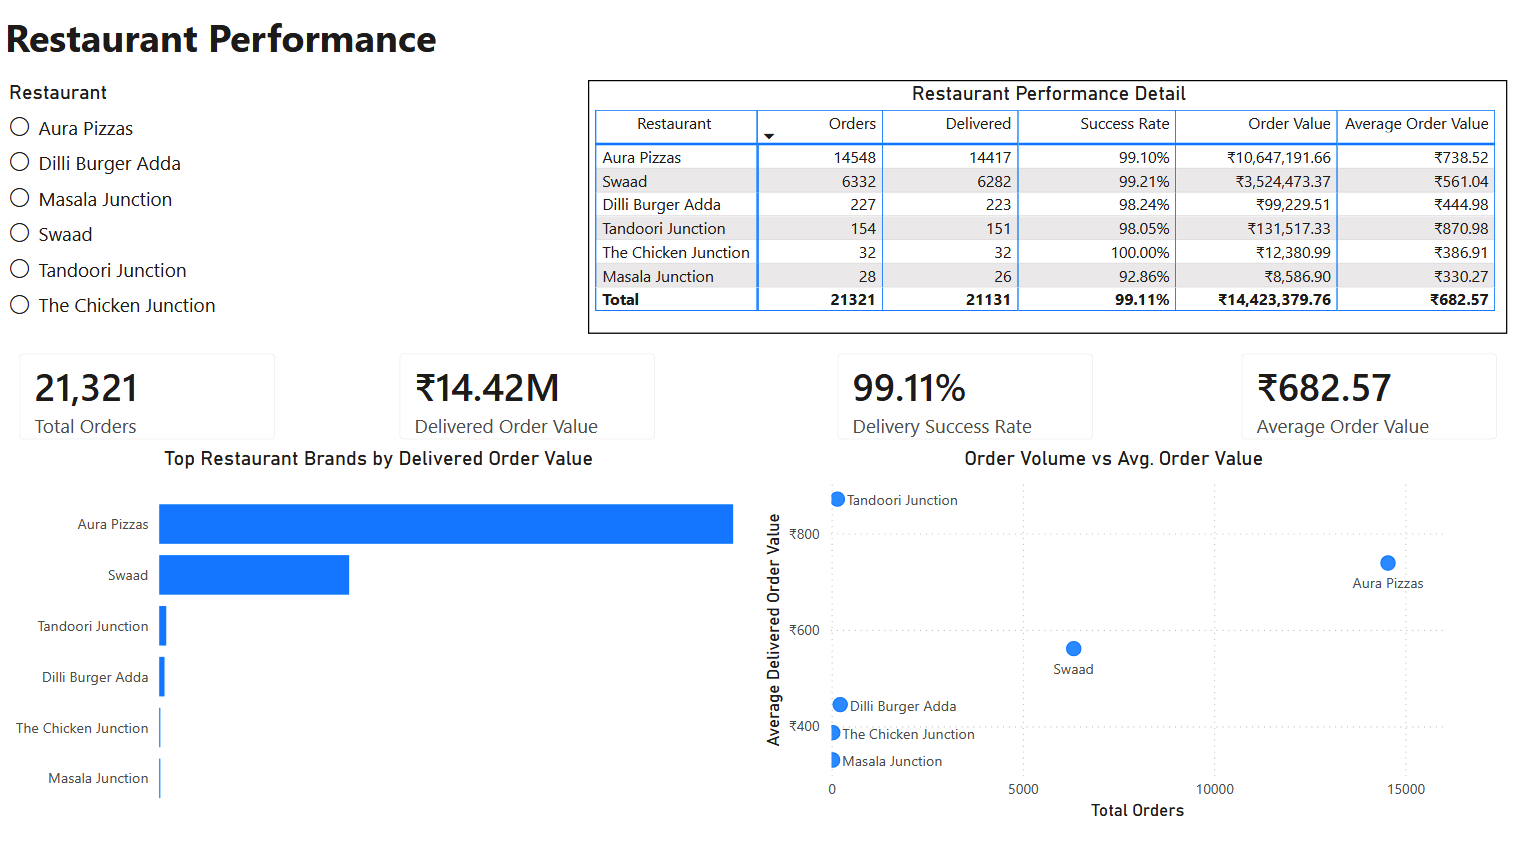

The dashboard page shown, as its layout file describes it:
{"tool":"powerbi","page":{"name":"Restaurant Performance","canvas":[1280,720],"ordinal":1},"visuals":[{"type":"listSlicer","fields":{"Values":["public vw_restaurant_performance.restaurant_name"]},"box":[3.8,71.2,492.5,213.8],"z":0},{"type":"cardVisual","fields":{"Data":["public vw_restaurant_performance.Restaurant Total Orders"]},"box":[0,285,250,107.5],"z":1000},{"type":"cardVisual","fields":{"Data":["public vw_restaurant_performance.Restaurant Delivered Order Value"]},"box":[320,285,250,107.5],"z":2000},{"type":"cardVisual","fields":{"Data":["public vw_restaurant_performance.Restaurant Delivery Success Rate"]},"box":[690,285,250,107.5],"z":3000},{"type":"cardVisual","fields":{"Data":["public vw_restaurant_performance.Restaurant Average Delivered Order Value"]},"box":[1030,285,250,107.5],"z":4000},{"type":"textbox","box":[0,8.8,608.8,62.5],"z":5000},{"type":"clusteredBarChart","title":"Top Restaurant Brands by Delivered Order Value","fields":{"Category":["public vw_restaurant_performance.restaurant_name"],"Y":["public vw_restaurant_performance.Restaurant Delivered Order Value"]},"box":[0,380,640,320],"z":6000},{"type":"scatterChart","title":"Order Volume vs Avg. Order Value","fields":{"Category":["public vw_restaurant_performance.restaurant_name"],"X":["Sum(public vw_restaurant_performance.total_orders)"],"Y":["public vw_restaurant_performance.Restaurant Average Delivered Order Value"]},"box":[640,380,600,320],"z":7000},{"type":"pivotTable","title":"Restaurant Performance Detail","fields":{"Rows":["public vw_restaurant_performance.restaurant_name"],"Values":["Sum(public vw_restaurant_performance.total_orders)","public vw_restaurant_performance.Restaurant Delivered Orders","public vw_restaurant_performance.Restaurant Delivery Success Rate","public vw_restaurant_performance.Restaurant Delivered Order Value","public vw_restaurant_performance.Restaurant Average Delivered Order Value"]},"box":[496.2,71.2,775,213.8],"z":8000}]}

Visuals, with their boxes in screenshot pixels (x1, y1, x2, y2), scaled from the page's 1280x720 canvas onto the 1516x848 screenshot:
listSlicer - public vw_restaurant_performance.restaurant_name: 5 84 588 336
cardVisual - public vw_restaurant_performance.Restaurant Total Orders: 0 336 296 462
cardVisual - public vw_restaurant_performance.Restaurant Delivered Order Value: 379 336 675 462
cardVisual - public vw_restaurant_performance.Restaurant Delivery Success Rate: 817 336 1113 462
cardVisual - public vw_restaurant_performance.Restaurant Average Delivered Order Value: 1220 336 1515 462
textbox: 0 10 721 84
"Top Restaurant Brands by Delivered Order Value" clusteredBarChart: 0 448 758 824
"Order Volume vs Avg. Order Value" scatterChart: 758 448 1469 824
"Restaurant Performance Detail" pivotTable: 588 84 1506 336
